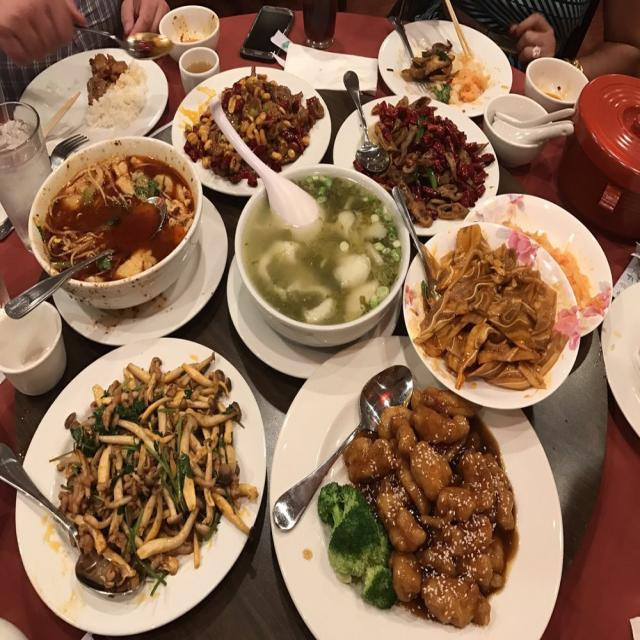nam xao: (42, 357, 258, 591)
